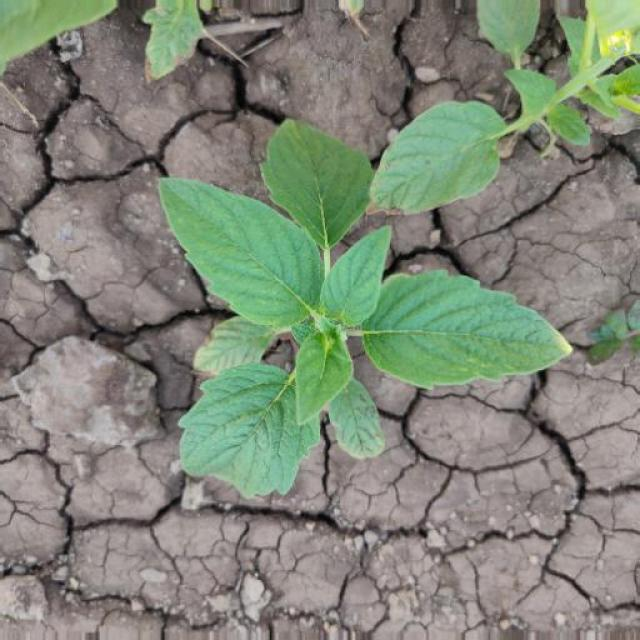crop: (150, 110, 565, 490)
